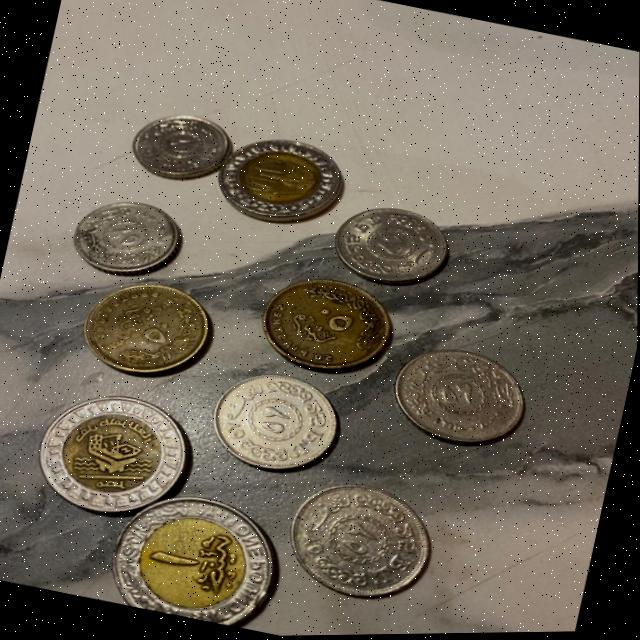Half Pound: (64, 261, 240, 399), (235, 255, 406, 389)
One Pound: (90, 476, 298, 636), (14, 377, 195, 527), (206, 107, 368, 246)
quarter pound: (274, 465, 447, 618), (377, 331, 544, 473), (203, 355, 349, 501), (323, 190, 466, 304), (59, 181, 191, 288), (123, 97, 236, 202)
